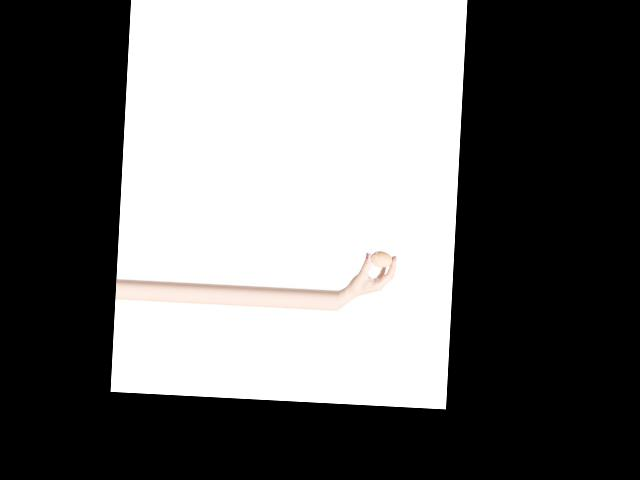egg: (369, 251, 392, 267)
